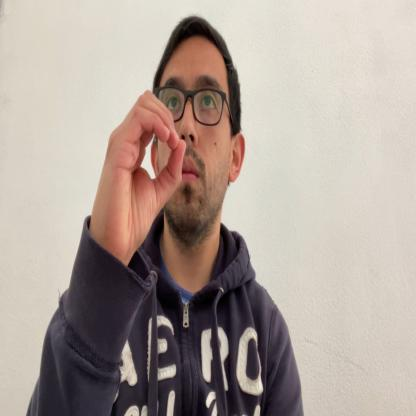O: (93, 87, 186, 244)
